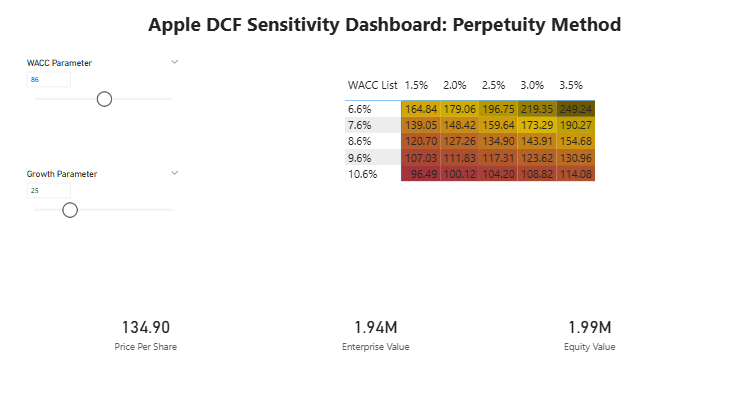

The page's visual inventory and layout, read from the dashboard file:
{"tool":"powerbi","page":{"name":"Perpetuity Method","canvas":[1280,720],"ordinal":0},"visuals":[{"type":"slicer","fields":{"Values":["WACC Parameter.WACC Parameter"]},"box":[40.3,104.1,280.5,176.4],"z":0},{"type":"slicer","fields":{"Values":["Growth Parameter.Growth Parameter"]},"box":[40.3,290.6,280.5,174.7],"z":1000},{"type":"pivotTable","fields":{"Values":["Summary_Sheet.Sensitivity Price"],"Columns":["Growth Rate Table.Growth List"],"Rows":["WACC Table.WACC List"]},"box":[582.9,136.1,455.2,204.9],"z":2000},{"type":"card","fields":{"Values":["Summary_Sheet.Price Per Share"]},"box":[115.9,465.3,273.8,208.3],"z":3000},{"type":"card","fields":{"Values":["Summary_Sheet.Enterprise Value"]},"box":[505.6,465.3,267.1,208.3],"z":4000},{"type":"card","fields":{"Values":["Summary_Sheet.Equity Value"]},"box":[858.4,465.3,280.5,208.3],"z":5000},{"type":"textbox","box":[216.7,23.5,878.5,80.6],"z":6000}]}

Visuals, with their boxes in screenshot pixels (x1, y1, x2, y2), scaled from the page's 1280x720 canvas onto the 749x415 screenshot:
slicer - WACC Parameter.WACC Parameter: detection(24, 60, 188, 162)
slicer - Growth Parameter.Growth Parameter: detection(24, 167, 188, 268)
pivotTable - Summary_Sheet.Sensitivity Price x Growth Rate Table.Growth List: detection(341, 78, 607, 197)
card - Summary_Sheet.Price Per Share: detection(68, 268, 228, 388)
card - Summary_Sheet.Enterprise Value: detection(296, 268, 452, 388)
card - Summary_Sheet.Equity Value: detection(502, 268, 666, 388)
textbox: detection(127, 14, 641, 60)
